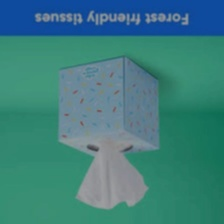book: (52, 51, 164, 162)
tissue: (71, 138, 154, 213)
